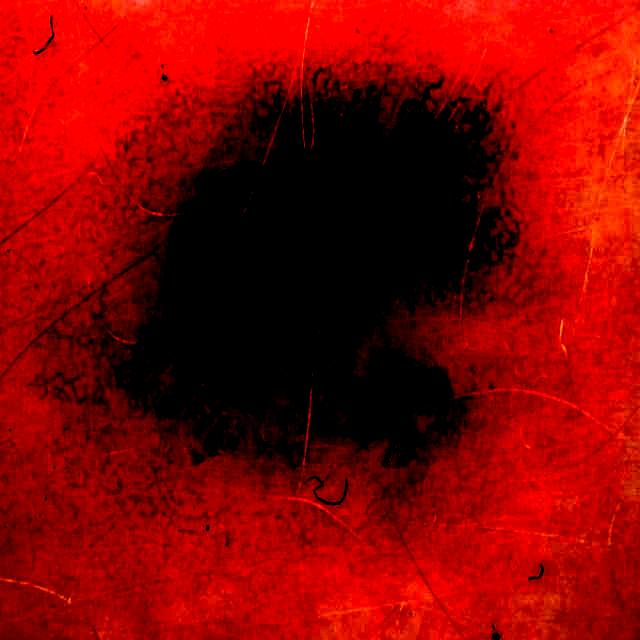NV: (101, 67, 550, 518)
